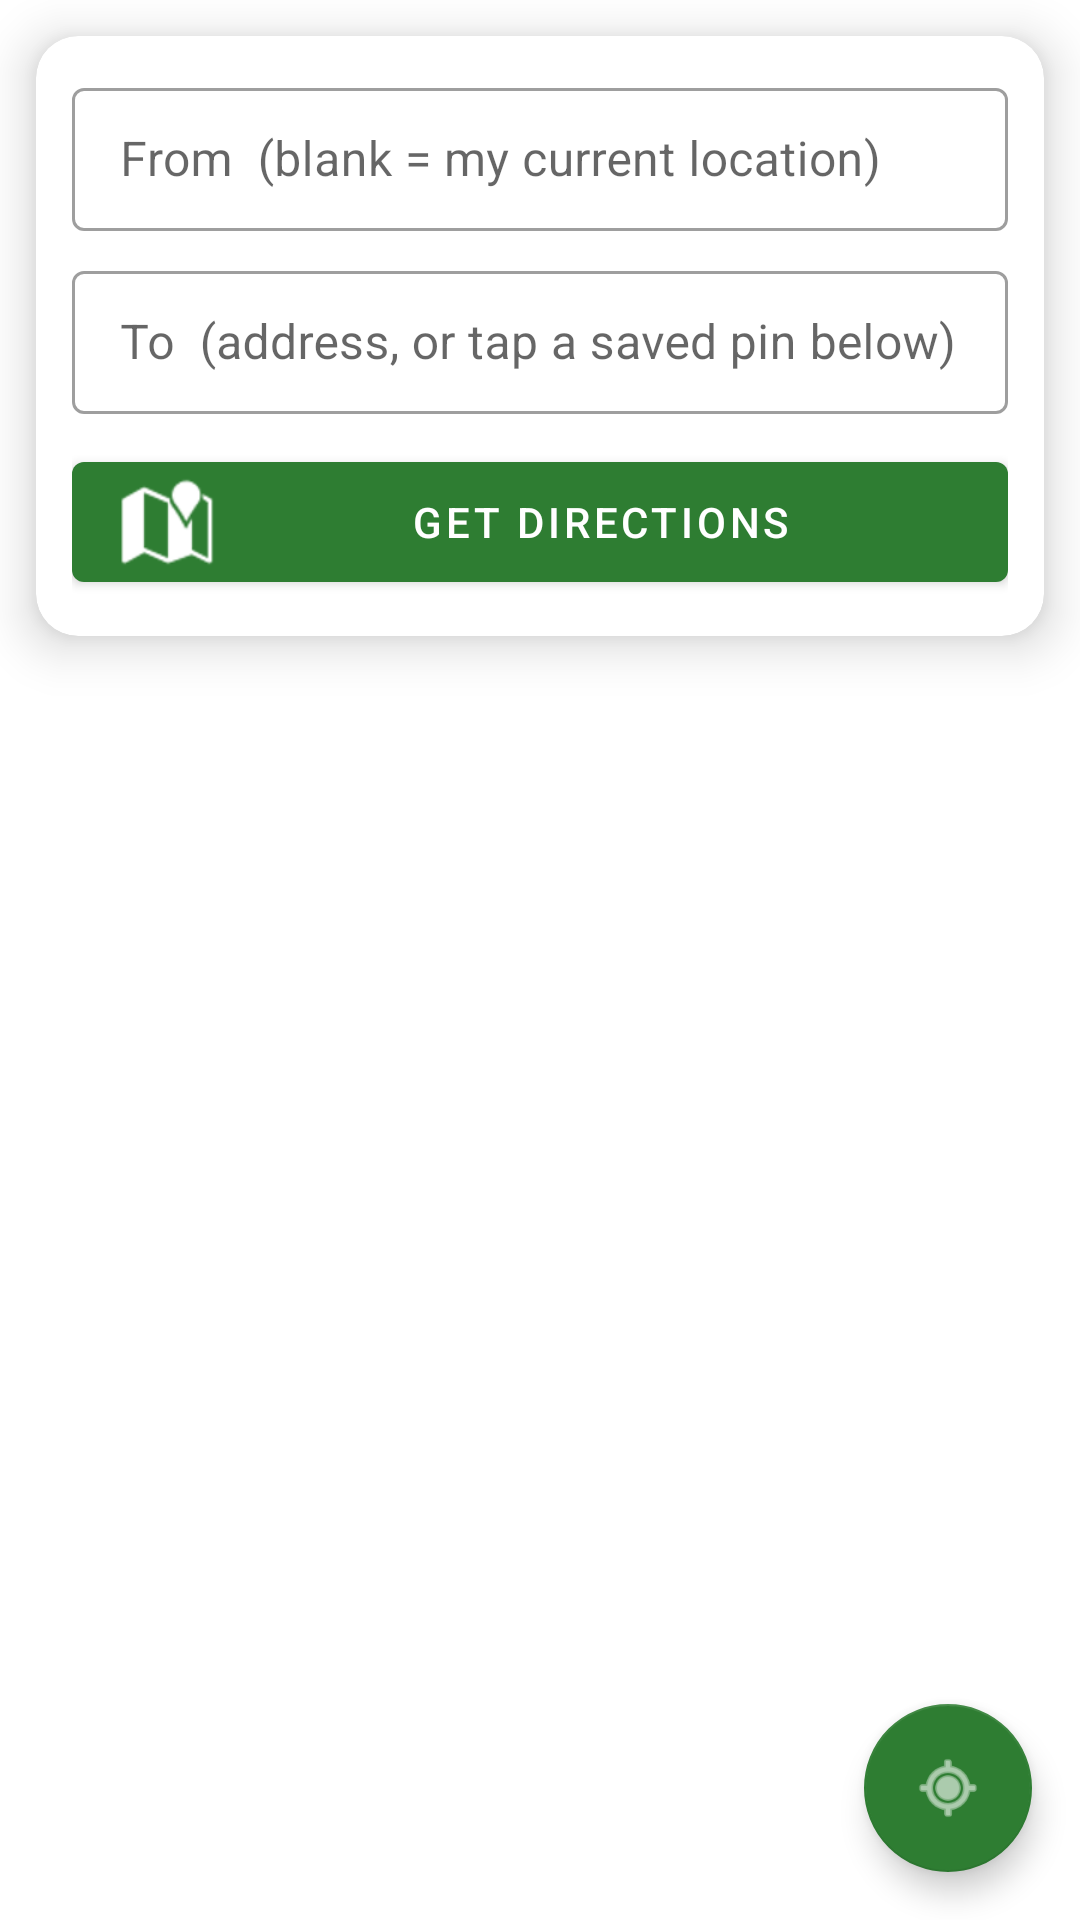

Icons on this 1080x1920 Android screen, each with the point to tap as (x=x, y=y):
My Location: (x=948, y=1788)
